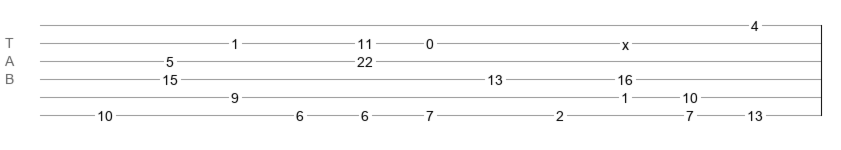0: (426, 36, 434, 46)
1: (231, 36, 239, 46), (621, 90, 629, 100)
10: (97, 108, 113, 118), (682, 90, 698, 100)
11: (357, 36, 373, 46)
13: (487, 72, 503, 82), (747, 108, 763, 118)
15: (162, 72, 178, 82)
16: (617, 72, 633, 82)
2: (556, 108, 564, 118)
22: (357, 54, 373, 64)
4: (751, 18, 759, 28)
5: (166, 54, 174, 64)
6: (296, 108, 304, 118), (361, 108, 369, 118)
7: (426, 108, 434, 118), (686, 108, 694, 118)
9: (231, 90, 239, 100)
x: (622, 37, 629, 45)
